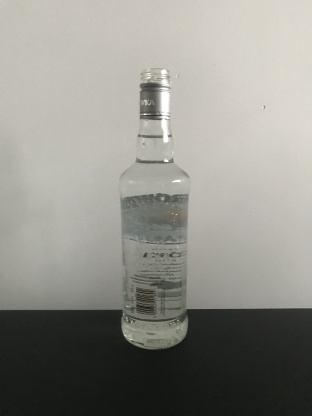nakretka: (137, 66, 173, 120)
